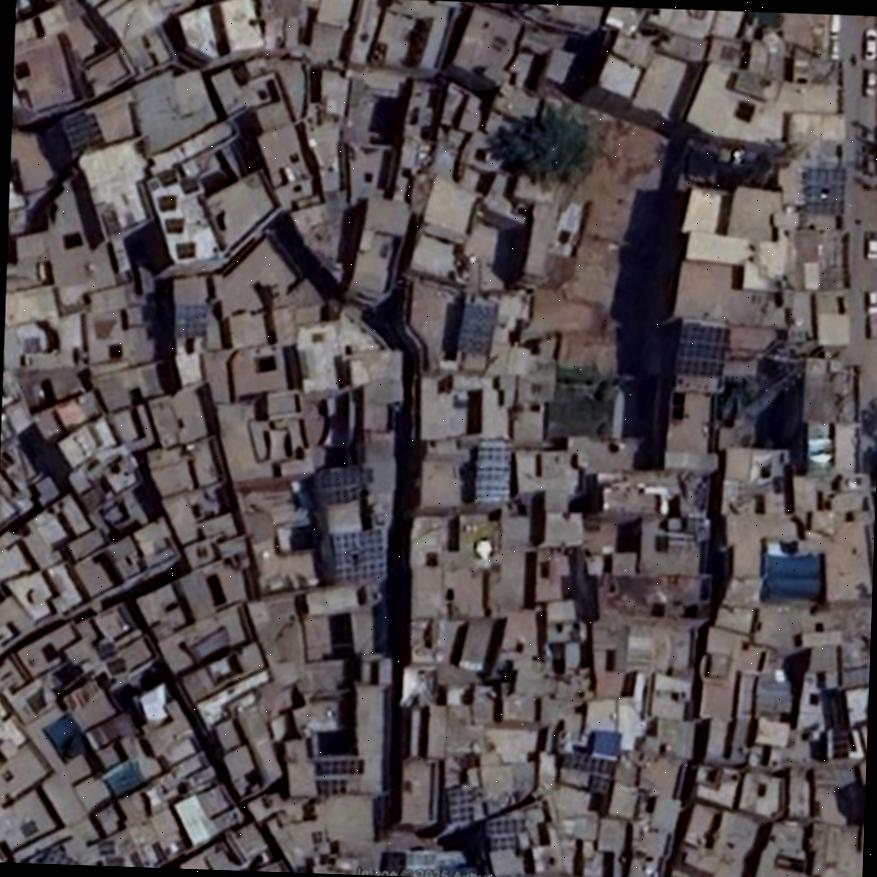Solarpanel: (672, 323, 728, 377), (333, 528, 385, 578), (473, 442, 511, 502), (319, 469, 373, 506), (456, 304, 496, 353), (804, 167, 846, 213), (63, 112, 105, 153), (559, 753, 615, 776), (176, 303, 207, 336), (313, 758, 365, 773), (447, 788, 471, 820), (486, 819, 524, 836), (315, 779, 346, 795), (488, 837, 515, 851), (589, 776, 611, 793)
